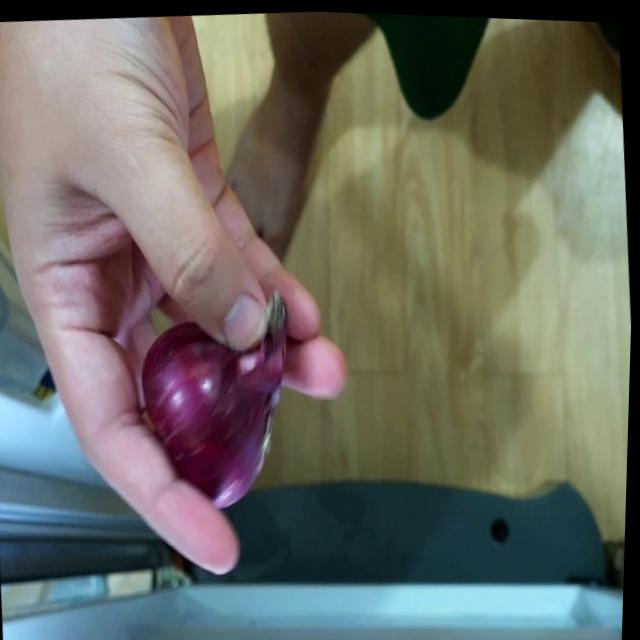onion: (132, 309, 297, 509)
